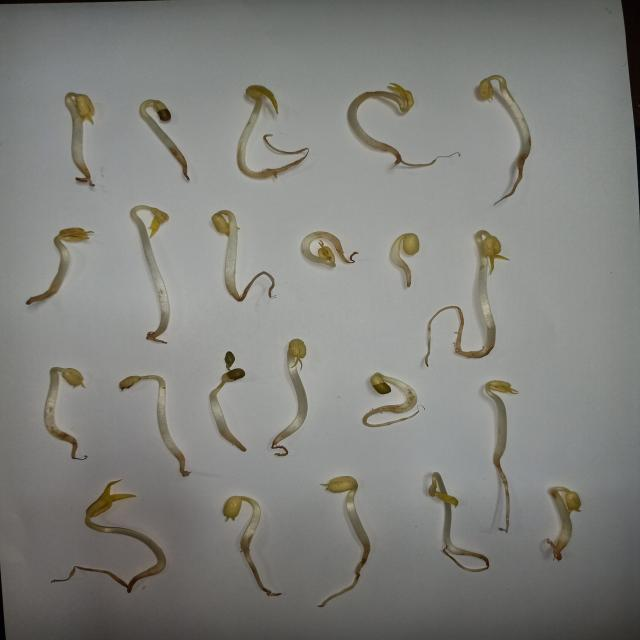leaf: (84, 478, 136, 515), (136, 206, 168, 238), (426, 488, 462, 508), (144, 100, 174, 122), (74, 93, 94, 123), (224, 352, 244, 381), (212, 210, 234, 234), (372, 374, 398, 394), (326, 477, 356, 493), (400, 233, 421, 255), (245, 86, 278, 100), (224, 497, 243, 521), (287, 339, 306, 363), (62, 368, 84, 388), (488, 381, 518, 394), (567, 486, 581, 512), (58, 229, 88, 241), (485, 235, 499, 260), (120, 377, 142, 390), (482, 78, 492, 101), (403, 86, 414, 104), (320, 247, 335, 260)
root: (325, 542, 371, 609), (423, 306, 474, 366), (235, 547, 285, 599), (484, 458, 518, 532), (60, 433, 92, 462), (276, 146, 309, 174), (107, 574, 149, 595), (358, 405, 392, 430), (24, 289, 66, 309), (508, 158, 528, 198), (466, 550, 490, 573), (222, 431, 248, 452), (227, 290, 272, 302), (170, 148, 188, 177), (381, 142, 401, 164), (392, 268, 412, 288), (338, 250, 361, 266), (174, 451, 188, 476), (76, 164, 92, 184), (272, 440, 289, 458), (147, 328, 167, 343), (549, 546, 567, 561)
stem: (81, 517, 168, 573), (132, 205, 167, 326), (124, 379, 179, 454), (485, 75, 529, 157), (239, 85, 275, 178), (347, 87, 407, 142), (426, 472, 465, 553), (474, 229, 496, 354), (284, 339, 306, 436), (139, 101, 178, 149), (213, 210, 236, 289), (43, 367, 68, 432), (484, 385, 506, 458), (292, 230, 337, 265), (60, 92, 81, 165), (345, 482, 369, 542), (211, 375, 236, 432), (550, 486, 572, 545), (47, 236, 71, 289), (392, 372, 416, 414), (241, 494, 260, 546), (387, 234, 408, 267)
